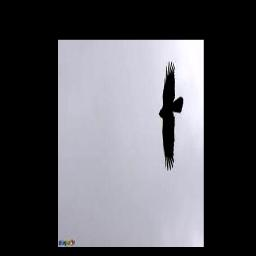Crow: (159, 62, 184, 172)
